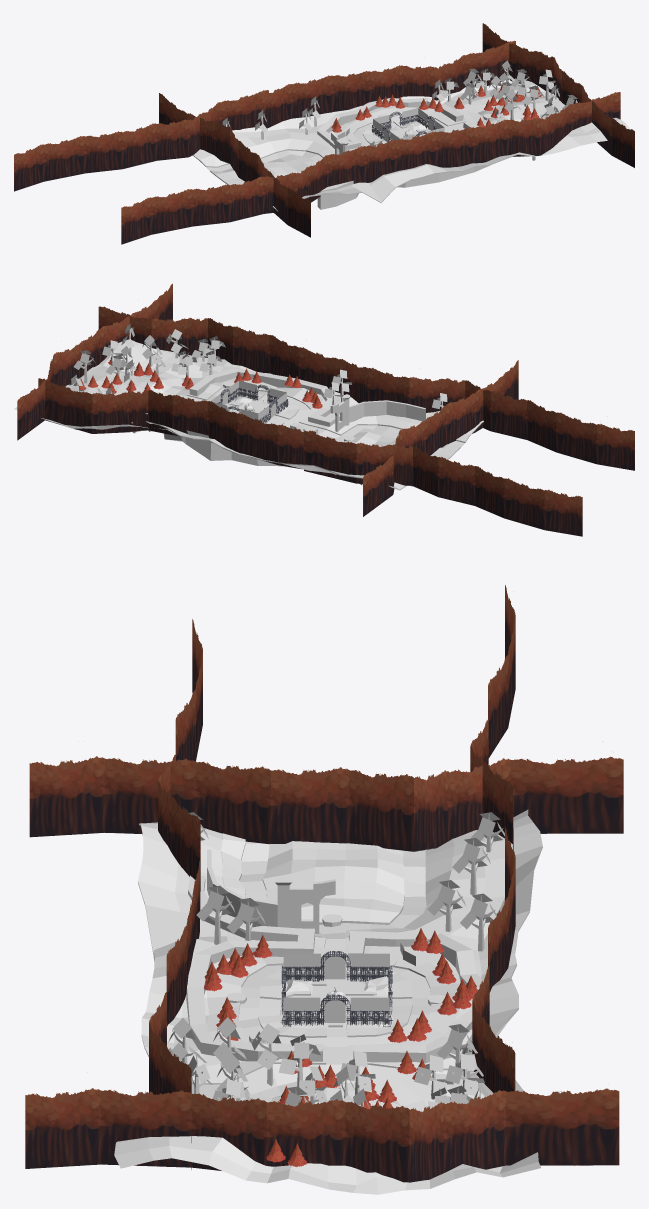
Rendered from red_forest 1.fbx.
3 views of the same model, one above another, from view 1: azimuth 30°, elevation 25°; view 2: azimuth 150°, elevation 25°; view 3: azimuth 270°, elevation 25° (orthographic). The views are drawn at different scales.
Visible parts, largest first — view 1: ground_trailer.003; view 2: ground_trailer.003; view 3: ground_trailer.003.
Boxes of the visible parts, x1,y1,x2,y2 form: ground_trailer.003: (14, 23, 634, 244); ground_trailer.003: (14, 283, 634, 536); ground_trailer.003: (25, 585, 623, 1194).
Bounding box in the file's own units: 117022 × 13554 × 57262.
